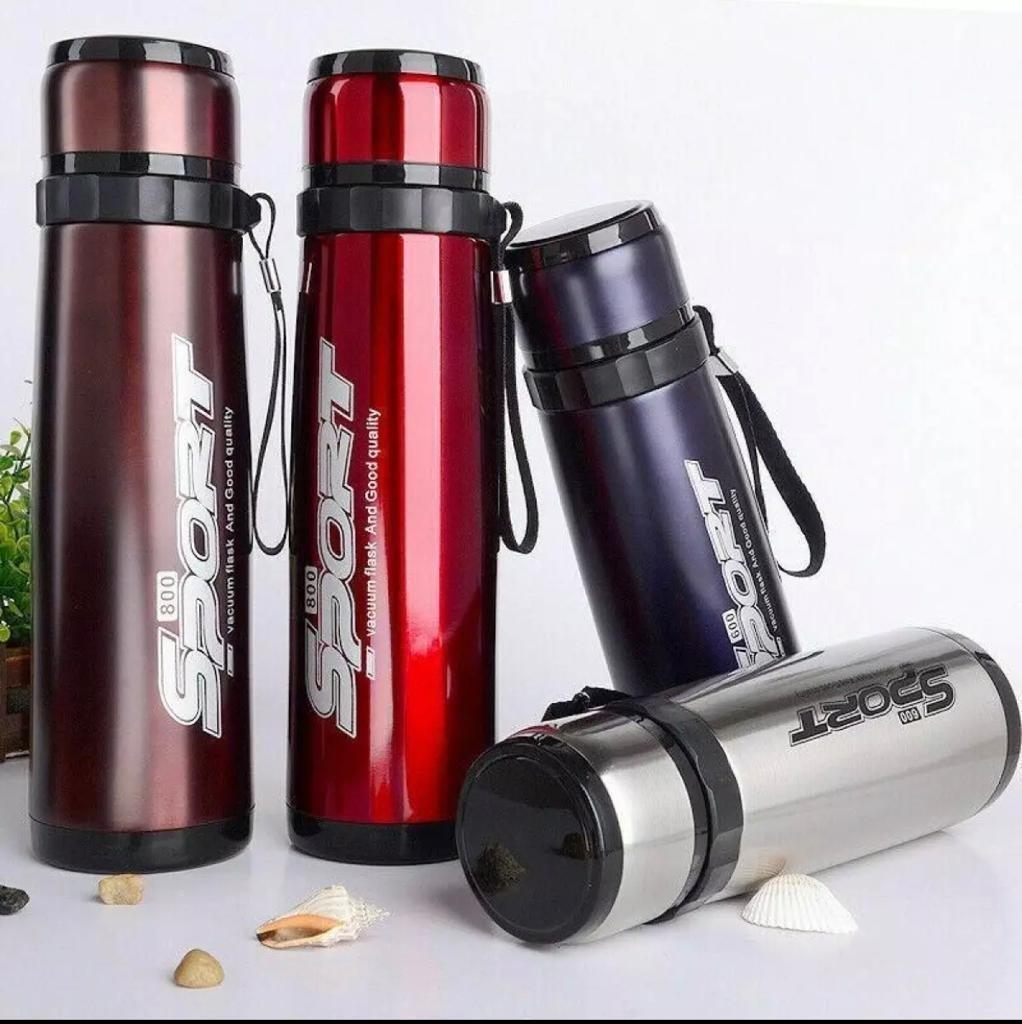gym bottle: (22, 22, 269, 878), (277, 36, 518, 866), (452, 623, 1022, 951), (502, 197, 809, 696)
